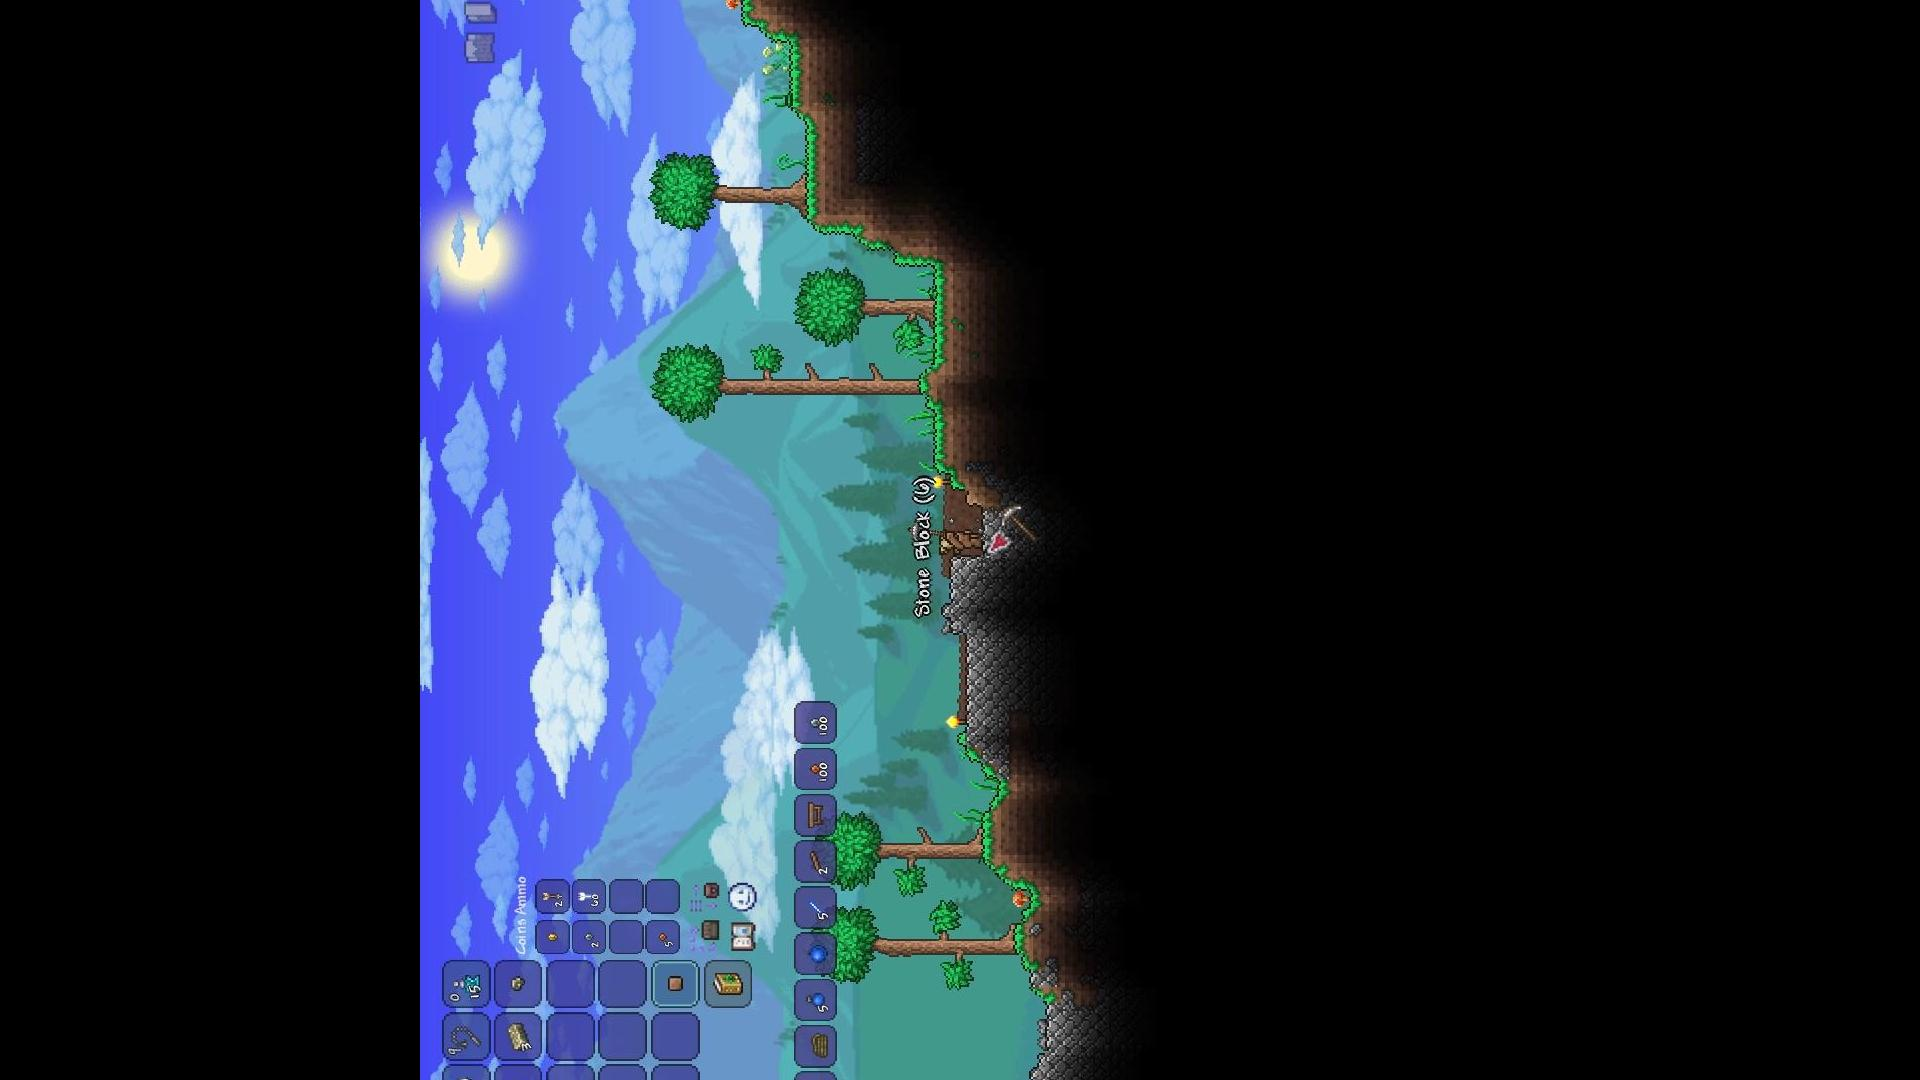dirt: (968, 760, 1062, 957), (800, 109, 910, 257), (915, 240, 968, 477), (731, 0, 822, 128)
stone: (967, 640, 996, 760), (951, 549, 978, 640), (1036, 1000, 1067, 1080), (977, 509, 1001, 556)
